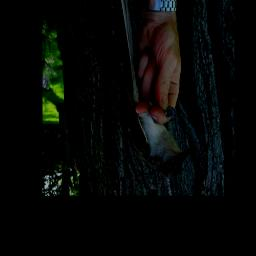Cuckoo: (112, 0, 194, 180)
